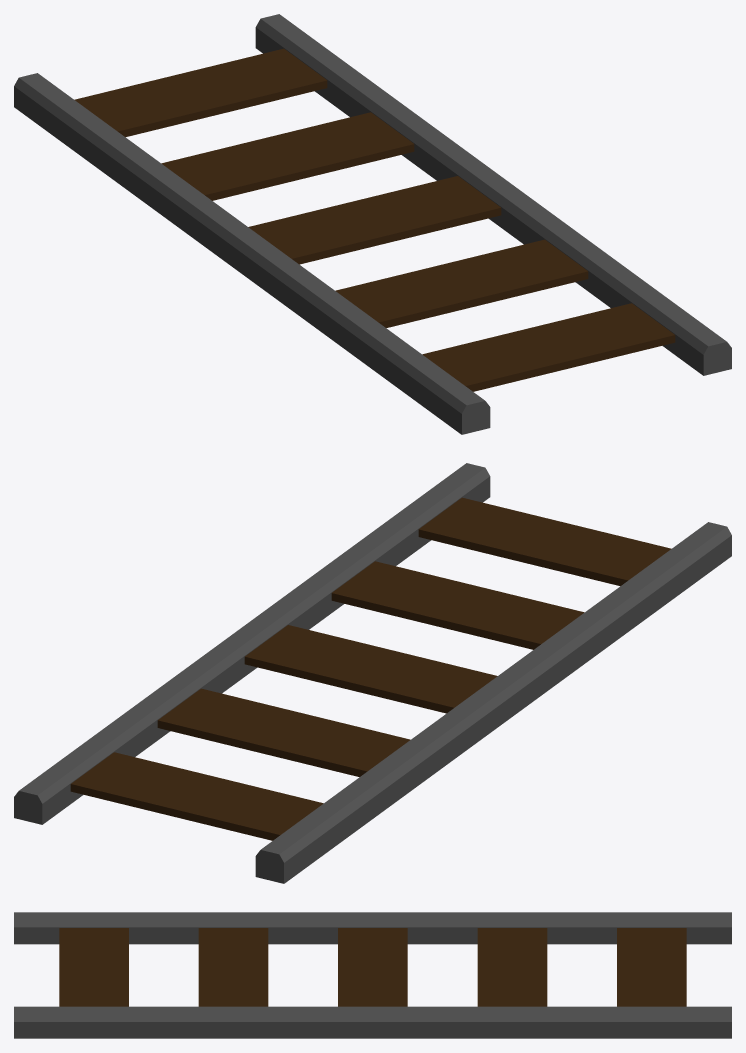
Rendered from trilhos.fbx.
3 views of the same model, one above another, from view 1: azimuth 30°, elevation 25°; view 2: azimuth 150°, elevation 25°; view 3: azimuth 270°, elevation 25° (orthographic). The views are drawn at different scales.
Parts seen in each view (by area): view 1: Cube.003, Cube.002; view 2: Cube.003, Cube.002; view 3: Cube.002, Cube.003.
Boxes of the visible parts, x1,y1,x2,y2 form: Cube.003: (74, 48, 675, 391); Cube.002: (14, 14, 731, 434); Cube.003: (70, 497, 671, 840); Cube.002: (14, 463, 731, 883); Cube.002: (14, 912, 731, 1038); Cube.003: (59, 928, 686, 1006).
Bounding box in the file's own units: 383 × 38.49 × 1100.
